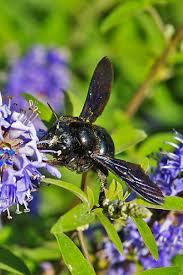Xylocopa: (34, 49, 165, 218)
